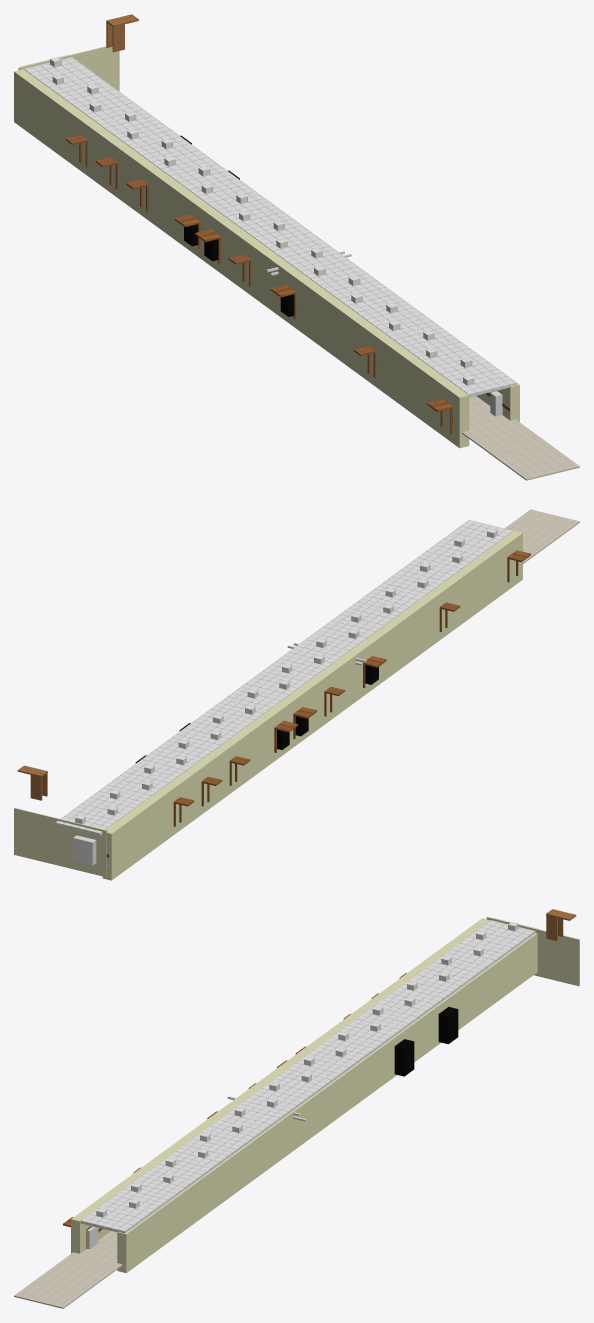
File: korpusVV.fbx
3 views of the same model, one above another, from view 1: azimuth 30°, elevation 25°; view 2: azimuth 150°, elevation 25°; view 3: azimuth 330°, elevation 25° (orthographic). The views are drawn at different scales.
Parts seen in each view (by area): view 1: Cube.259, Cube, Cube.136, Cube.138, Cube.014, Cube.053, Cube.092, Cube.137, Cube.005, Cube.001, Cube.108, Cube.165 (+3 smaller); view 2: Cube.259, Cube.013, Cube.014, Cube.138, Cube.136, Cube.005, Cube.137, Cube.001, Cube.053, Cube.092, Cube, Cube.108 (+3 smaller); view 3: Cube.259, Cube, Cube.013, Cube.054, Cube.134, Cube.135, Cube.096, Cube.139, Cube.003, Cube.173, Cube.107, Cube.004 (+5 smaller).
Part boxes in pixels (<box>): Cube.259: <box>21,55,516,397</box>; Cube: <box>462,396,579,480</box>; Cube.136: <box>308,284,360,368</box>; Cube.138: <box>393,347,444,430</box>; Cube.014: <box>14,69,63,150</box>; Cube.053: <box>138,160,190,243</box>; Cube.092: <box>223,222,274,306</box>; Cube.137: <box>351,316,402,399</box>; Cube.005: <box>54,98,105,181</box>; Cube.001: <box>96,129,147,212</box>; Cube.108: <box>266,253,317,336</box>; Cube.165: <box>435,378,469,448</box>; Cube.259: <box>55,520,513,835</box>; Cube.013: <box>14,807,107,877</box>; Cube.014: <box>102,805,148,880</box>; Cube.138: <box>453,547,500,623</box>; Cube.136: <box>375,604,422,681</box>; Cube.005: <box>140,776,187,852</box>; Cube.137: <box>414,576,461,652</box>; Cube.001: <box>179,747,226,824</box>; Cube.053: <box>218,719,265,795</box>; Cube.092: <box>296,661,344,738</box>; Cube: <box>59,509,579,867</box>; Cube.108: <box>335,633,383,709</box>; Cube.259: <box>80,918,538,1233</box>; Cube: <box>14,1231,122,1308</box>; Cube.013: <box>486,916,579,986</box>; Cube.054: <box>350,1040,391,1107</box>; Cube.134: <box>233,1125,274,1193</box>; Cube.135: <box>194,1154,235,1221</box>; Cube.096: <box>312,1068,352,1135</box>; Cube.139: <box>155,1183,196,1250</box>; Cube.003: <box>459,961,499,1028</box>; Cube.173: <box>117,1211,157,1273</box>; Cube.107: <box>273,1097,313,1164</box>; Cube.004: <box>498,933,537,999</box>.
Size of the model in its own units: 3117 by 2064 by 22123.
